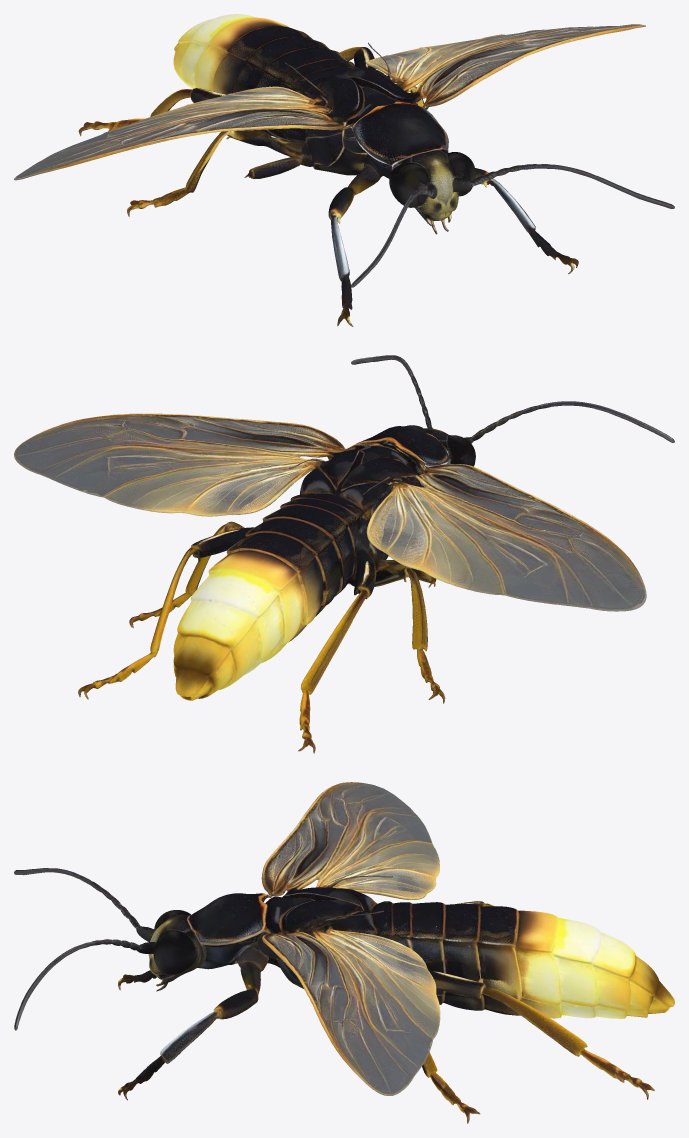
Rendered from firefly.optimized.glb.
3 views of the same model, one above another, from view 1: azimuth 30°, elevation 25°; view 2: azimuth 150°, elevation 25°; view 3: azimuth 270°, elevation 25° (orthographic).
Bounding box in the file's own units: 1.9 × 0.4539 × 1.73.
1 material, 1 textured.
